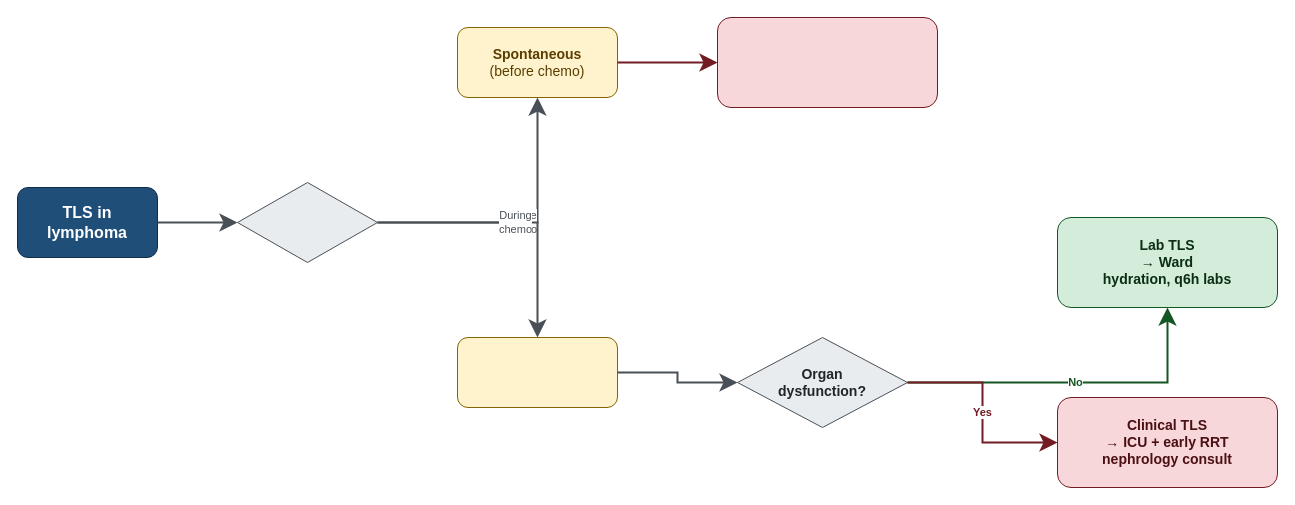
This 1295x505 diagram has some shape labels left out. Each missing label, with the box of its shape:
High-risk cohort ICU during prephase regardless of grade: (716, 16, 938, 108)
Treatment-induced (days 1–7): (456, 336, 618, 408)
When?: (236, 182, 378, 262)
